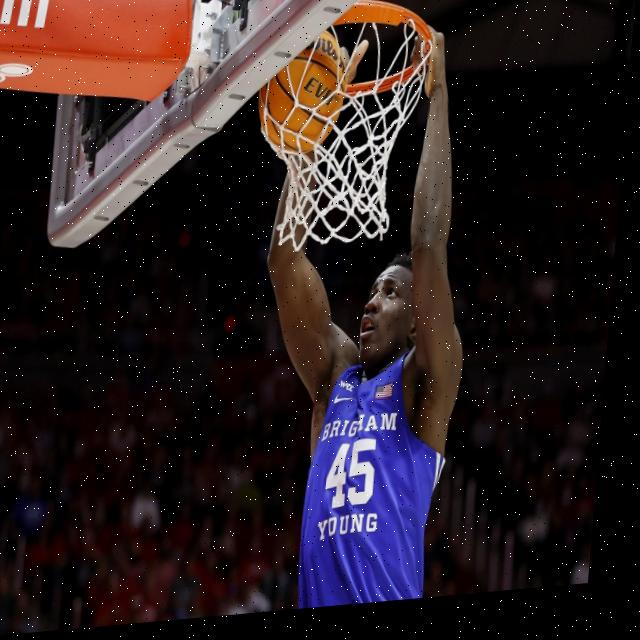basketball: (255, 28, 350, 159)
hoop: (246, 0, 436, 256)
